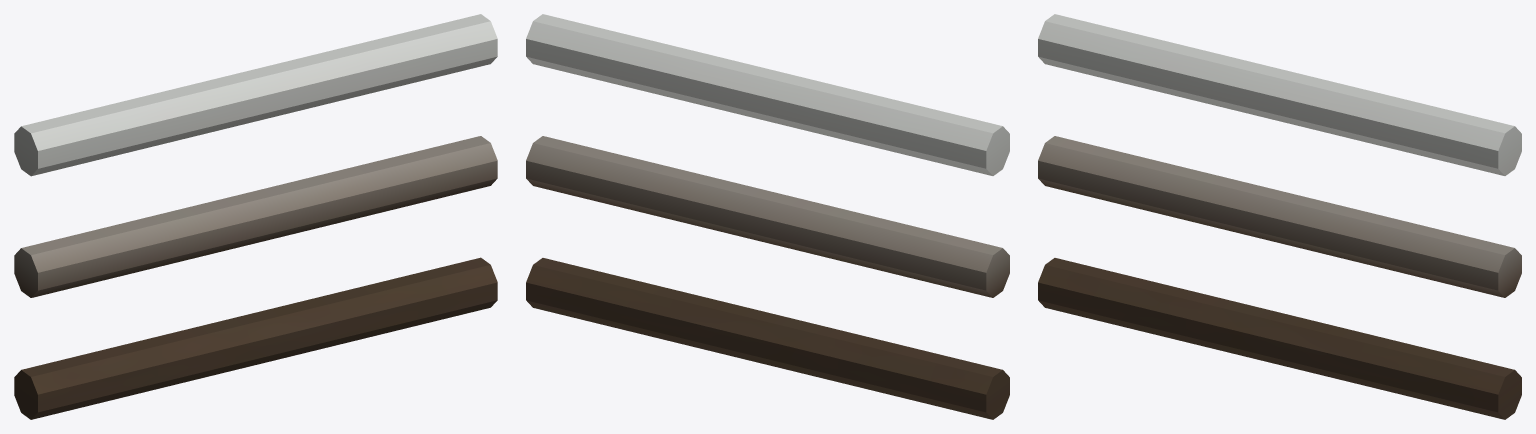
Rendered from Fence_Post_Rails_Snow.obj.
3 views of the same model, side by side, from view 1: azimuth 30°, elevation 25°; view 2: azimuth 150°, elevation 25°; view 3: azimuth 330°, elevation 25° (orthographic).
Visible parts, largest first — view 1: Fence_Post_Rails_Snow; view 2: Fence_Post_Rails_Snow; view 3: Fence_Post_Rails_Snow.
Boxes of the visible parts, x1,y1,x2,y2 form: Fence_Post_Rails_Snow: (14,14,497,419); Fence_Post_Rails_Snow: (526,14,1009,419); Fence_Post_Rails_Snow: (1038,14,1521,419).
Bounding box in the file's own units: 1.41 × 0.8411 × 0.1266.
